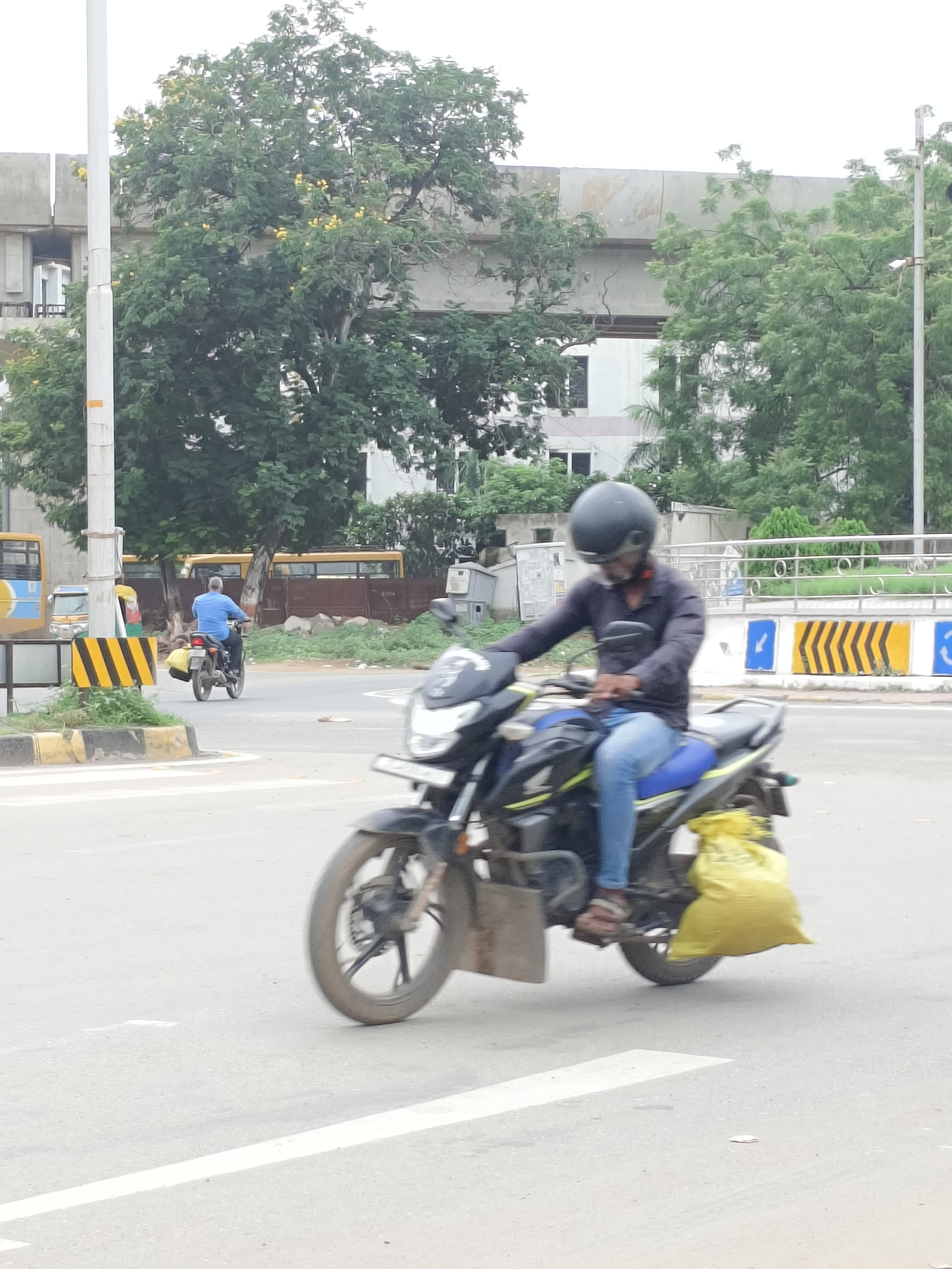BikeWithRider: (301, 473, 805, 1028), (182, 570, 256, 703)
Helmet: (556, 475, 668, 595)
